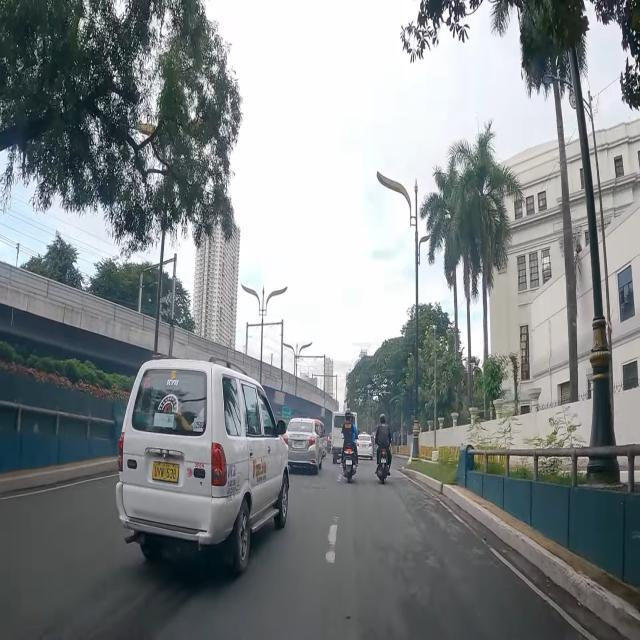car: (116, 358, 290, 576), (286, 418, 322, 474), (356, 432, 374, 460)
motorcycle: (340, 411, 358, 482), (375, 414, 392, 484)
